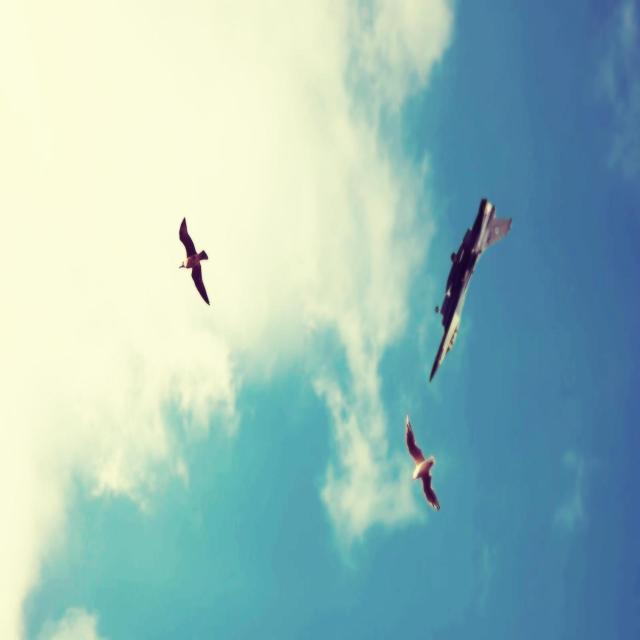airplane: (428, 196, 512, 383)
